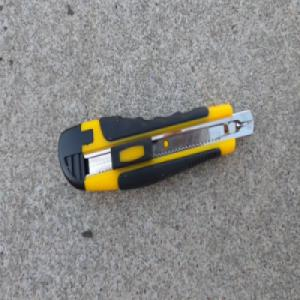Cutter: (57, 103, 255, 194)
